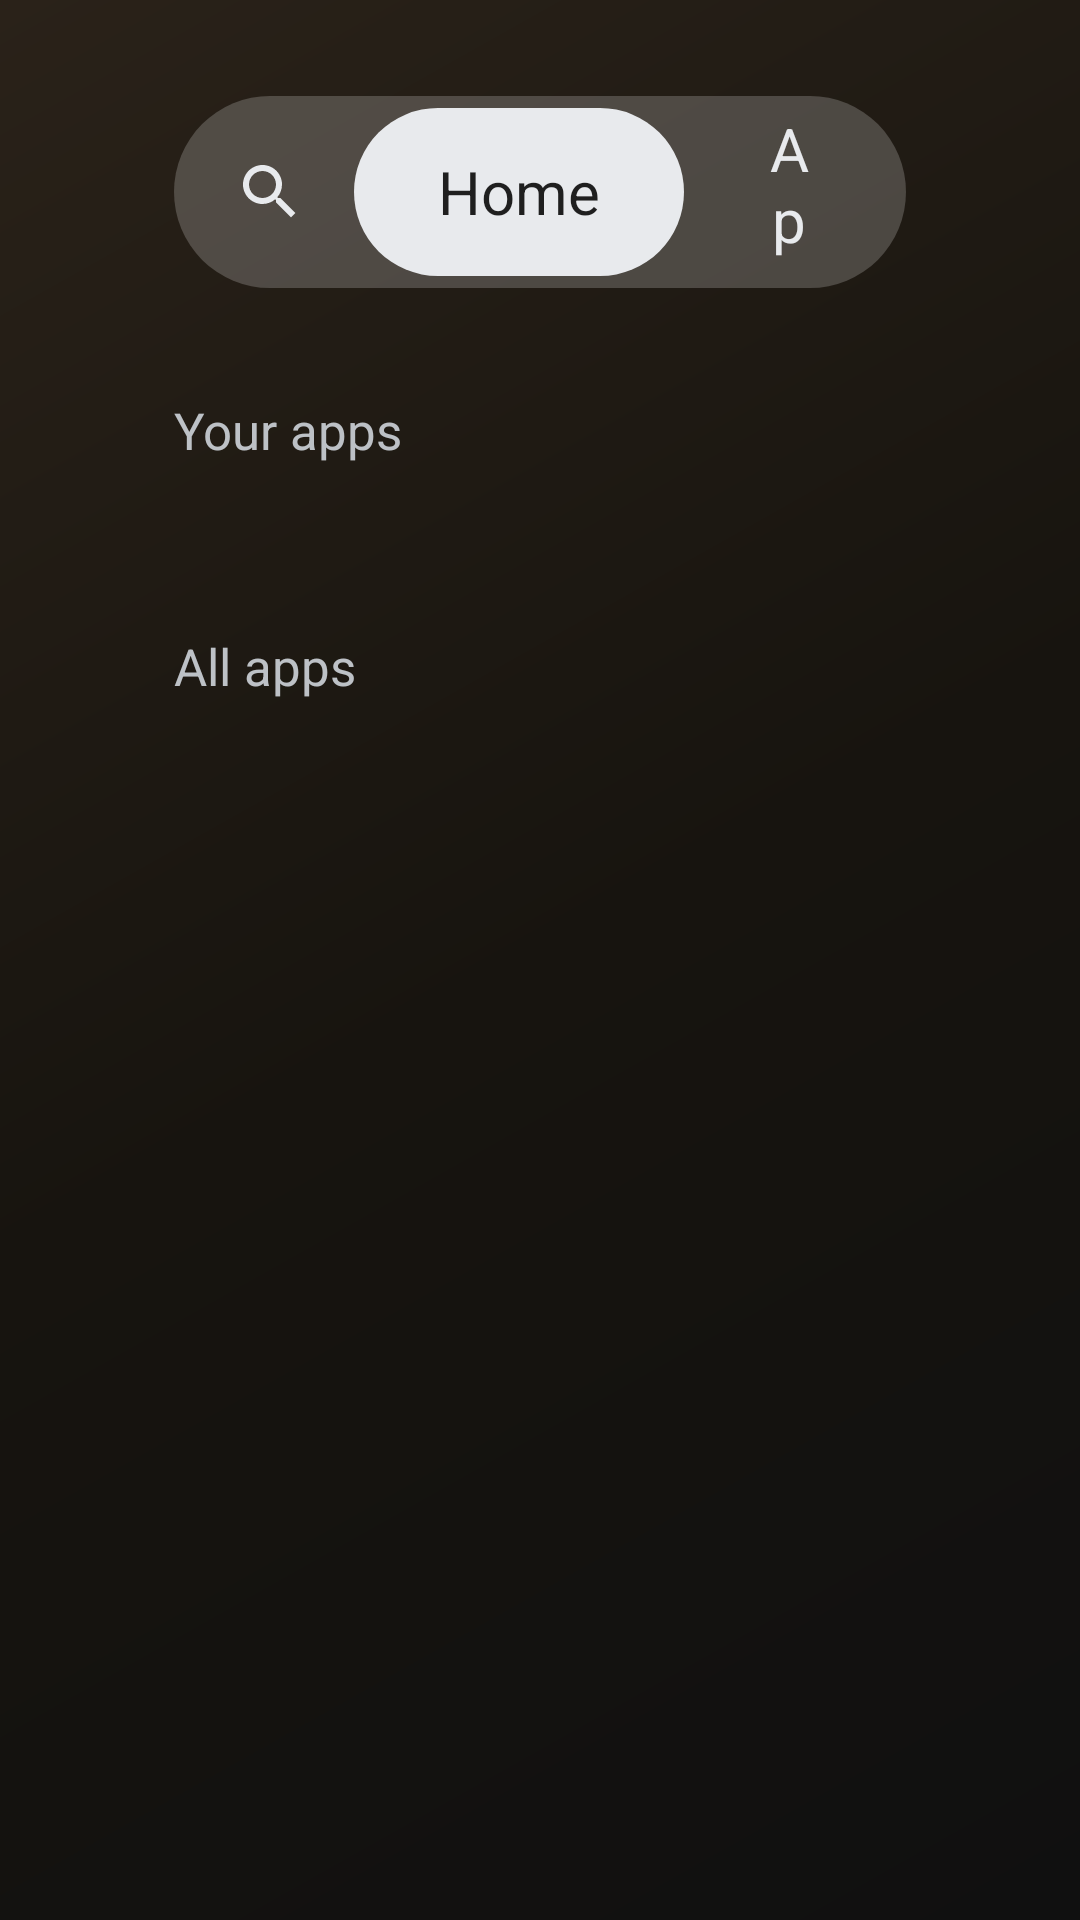

Named icons in this screenshot (1080×1920) and their centers, (x,y):
Search: (240,192)
